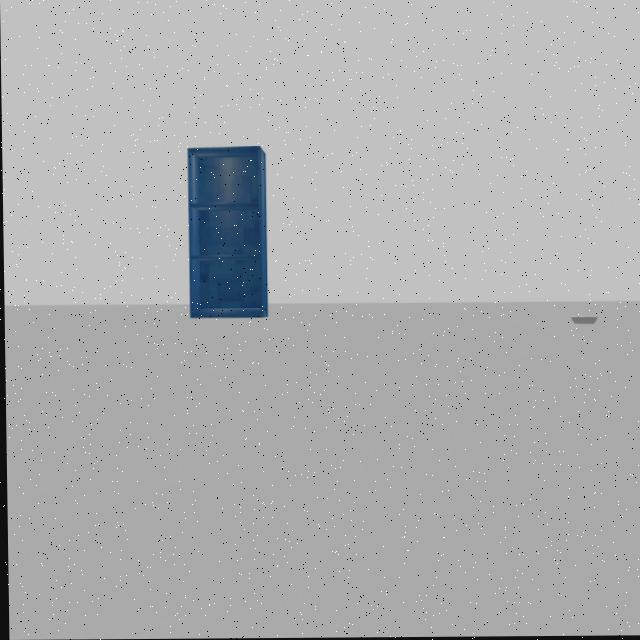bowl: (569, 304, 605, 340)
shelf: (172, 138, 279, 340)
